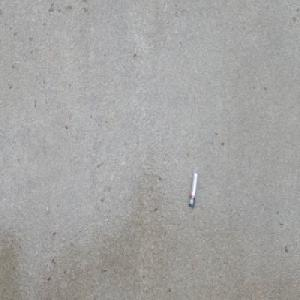Battery: (188, 171, 198, 208)
